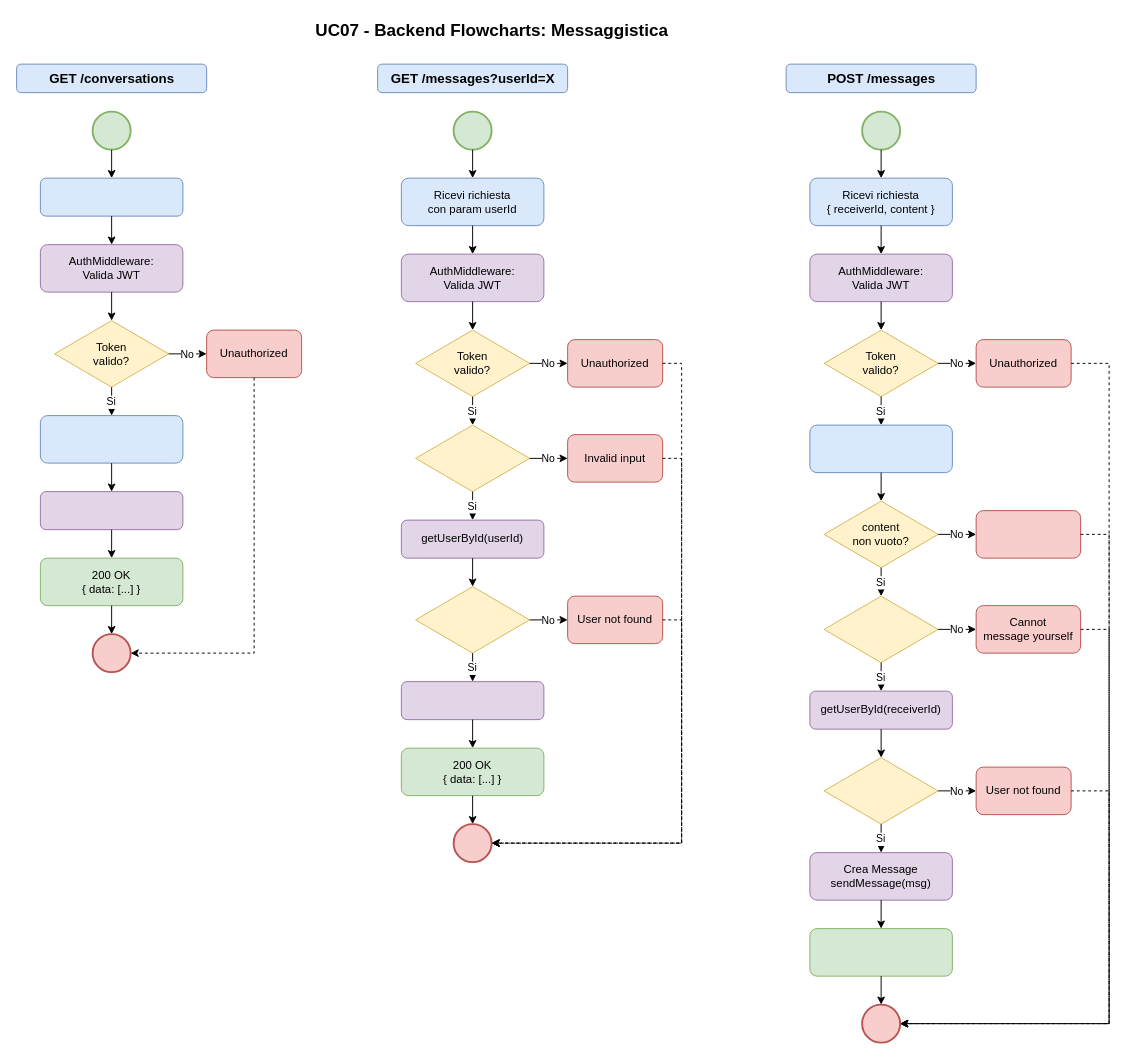
Image size: 1133x1059. Some labels were removed from this diagram. Here are the shapes that lost their labels. From the top down, the centre of each, then its label:
[111,196]: Ricevi richiesta
[111,439]: Estrai userId dal JWT
[472,458]: userId valido?
[880,448]: Estrai senderId dal JWT
[111,510]: getConversations(userId)
[1028,534]: Message content required
[472,619]: Utente trovato?
[880,629]: senderId != receiverId?
[472,700]: getMessages(myId, userId)
[880,790]: Destinatario trovato?
[880,952]: 200 OK { messageId }
